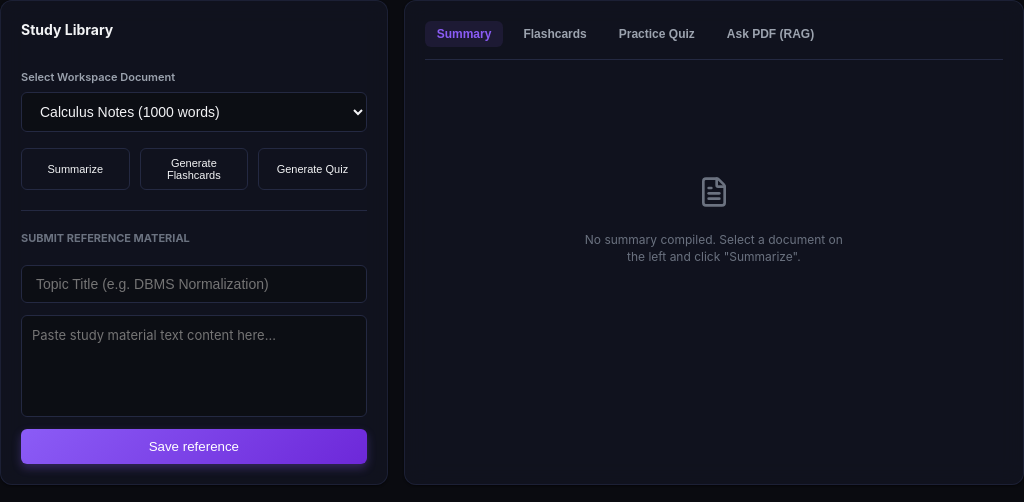
Scenario: DocumentsView › allows analyzing a selected document for summary
# Select document using combobox
Select "Calculus Notes (1000 words)" in the dropdown at (194, 112), box [21,92,367,132]
# Click summarize
Click the button "Summarize" at (75, 169), box [21,148,130,190]
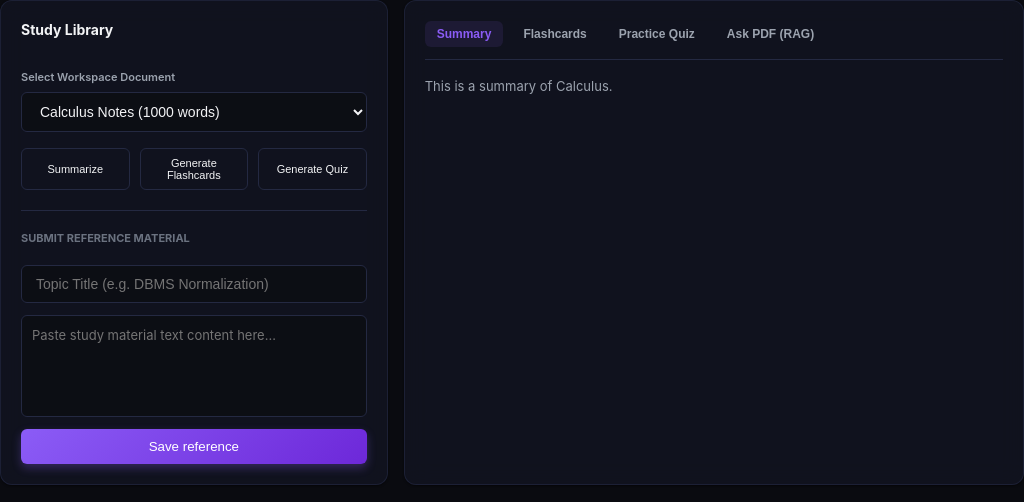
Result: the text "This is a summary of Calculus." is shown at [425,78,612,94]
